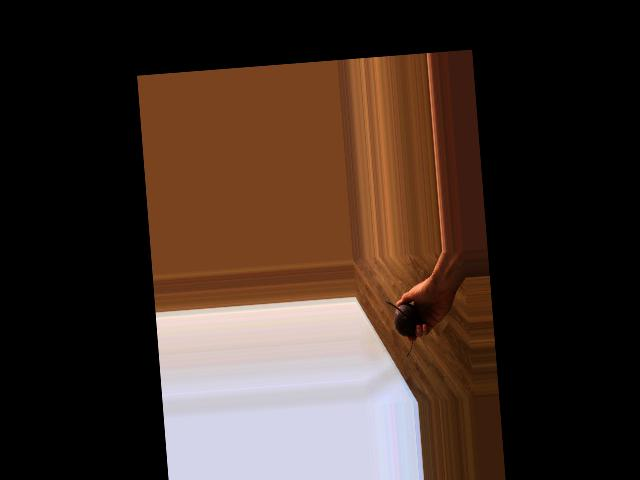beet: (387, 299, 423, 358)
